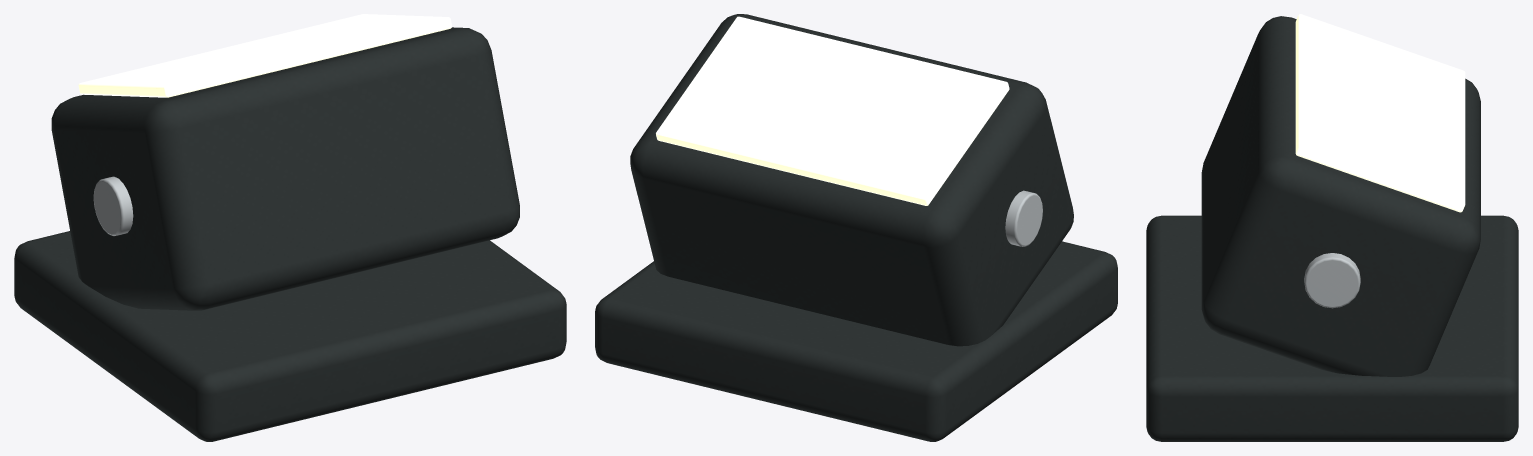
The model's file is uplight.glb.
3 views of the same model, side by side, from view 1: azimuth 30°, elevation 25°; view 2: azimuth 150°, elevation 25°; view 3: azimuth 270°, elevation 25° (orthographic). The views are drawn at different scales.
Visible parts, largest first — view 1: Washer | reflector housing, Washer | stable floor base, Washer | luminous top aperture, Washer | side pivot; view 2: Washer | reflector housing, Washer | stable floor base, Washer | luminous top aperture, Washer | side pivot; view 3: Washer | reflector housing, Washer | stable floor base, Washer | luminous top aperture, Washer | side pivot.001.
Boxes of the visible parts, bbox=[...] form: Washer | reflector housing: bbox=[51, 27, 519, 310]; Washer | stable floor base: bbox=[14, 231, 566, 441]; Washer | luminous top aperture: bbox=[78, 14, 451, 97]; Washer | side pivot: bbox=[93, 176, 133, 235]; Washer | reflector housing: bbox=[630, 14, 1073, 346]; Washer | stable floor base: bbox=[595, 241, 1117, 441]; Washer | luminous top aperture: bbox=[656, 16, 1009, 205]; Washer | side pivot: bbox=[1005, 190, 1042, 246]; Washer | reflector housing: bbox=[1201, 16, 1480, 376]; Washer | stable floor base: bbox=[1146, 215, 1518, 441]; Washer | luminous top aperture: bbox=[1295, 14, 1465, 212]; Washer | side pivot.001: bbox=[1304, 253, 1360, 308].
Bounding box in the file's own units: 0.246 × 0.1873 × 0.225.
3 materials, 3 textured.
